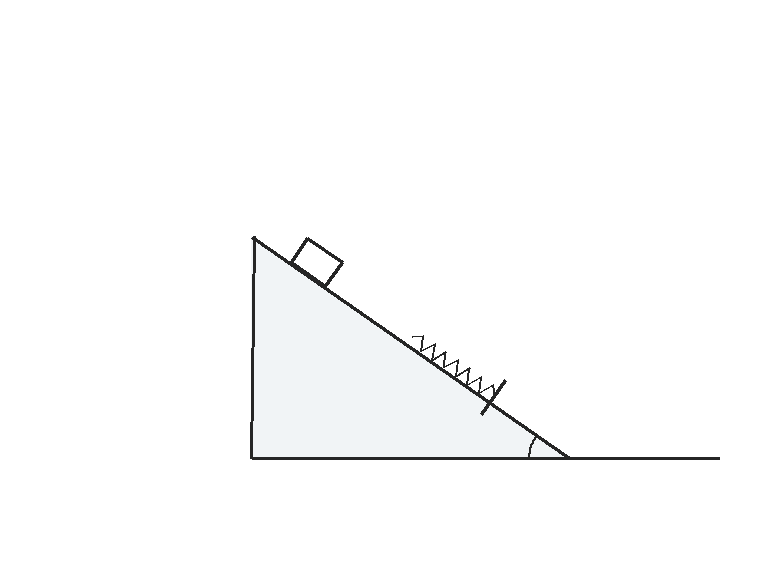block: (288, 236, 344, 289)
ramp: (250, 234, 571, 460)
spring: (410, 334, 497, 397)
